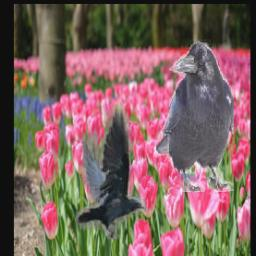Crow: (154, 40, 235, 193), (76, 101, 146, 239)
